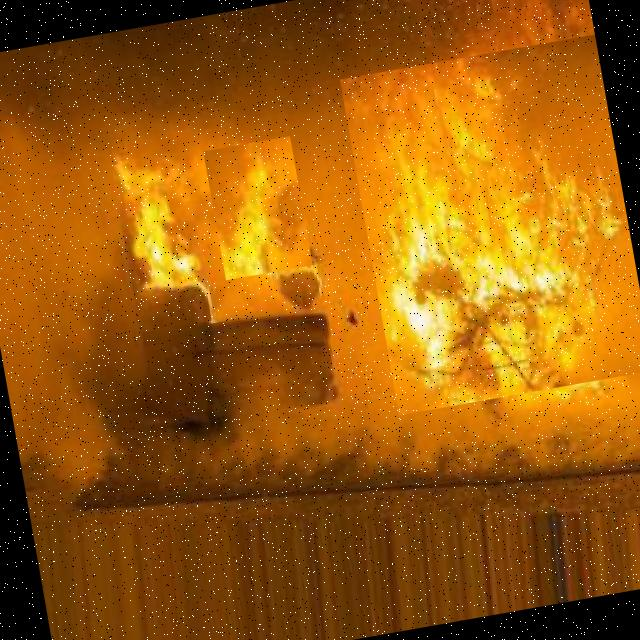fire: (339, 34, 640, 415), (111, 152, 212, 332), (203, 136, 312, 280)
